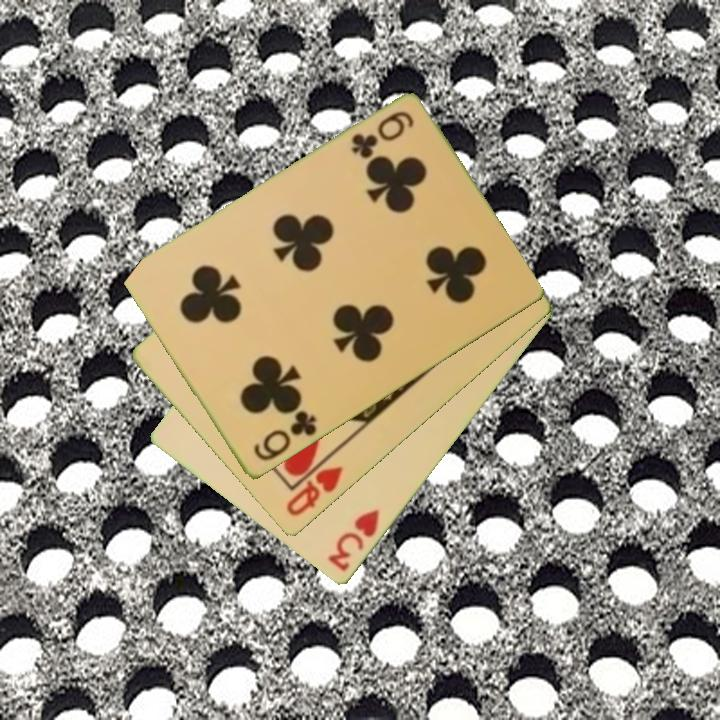3h: (324, 506, 383, 575)
6c: (249, 407, 320, 465), (347, 108, 417, 163)
Qh: (282, 463, 346, 520)
